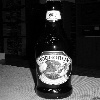beer: (36, 1, 74, 97)
